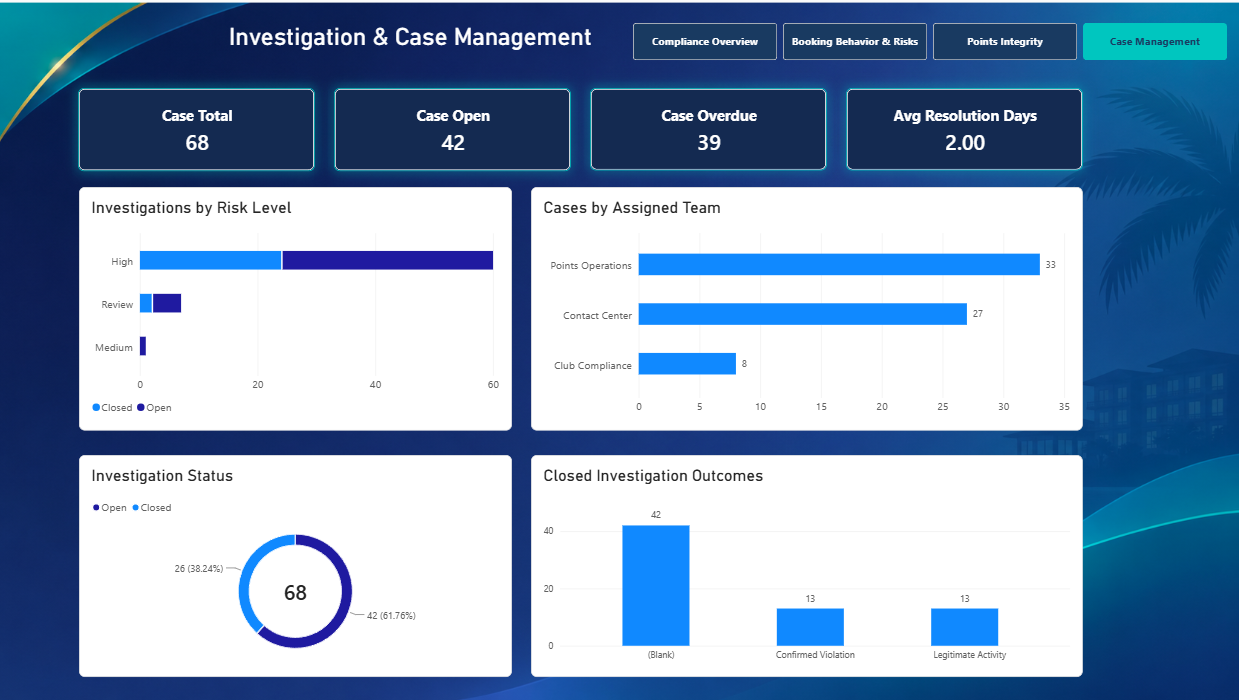

This screenshot's page, from the dashboard's own definition file:
{"tool":"powerbi","page":{"name":"Case Management","canvas":[1920,1080],"ordinal":3},"visuals":[{"type":"cardVisual","fields":{"Data":["_Measures.Case Total"]},"box":[230.6,181.6,319,112.2],"z":0},{"type":"cardVisual","fields":{"Data":["_Measures.Case Open"]},"box":[575.3,182.4,319,112.2],"z":1000},{"type":"cardVisual","fields":{"Data":["_Measures.Case Overdue"]},"box":[920.1,182.4,319,111.5],"z":2000},{"type":"cardVisual","fields":{"Data":["_Measures.Avg Resolution Days"]},"box":[1264.8,182.4,319,111.5],"z":3000},{"type":"textbox","title":"Investigation & Case Management","box":[434,94.6,503.2,38],"z":4000},{"type":"barChart","title":"Investigations by Risk Level","fields":{"Category":["vw_InvestigationCaseManagement.RiskLevel"],"Series":["vw_InvestigationCaseManagement.CaseStatus"],"Y":["_Measures.Case Total"]},"box":[231.3,315.8,582.6,327.6],"z":5000},{"type":"clusteredColumnChart","title":"Closed Investigation Outcomes","fields":{"Category":["vw_InvestigationCaseManagement.Disposition"],"Y":["_Measures.Case Total"]},"box":[840.9,675.5,743,298.9],"z":6000},{"type":"clusteredBarChart","title":"Cases by Assigned Team","fields":{"Category":["vw_InvestigationCaseManagement.AssignedTeam"],"Y":["_Measures.Case Total"]},"box":[840.9,315.8,743,327.6],"z":7000},{"type":"donutChart","title":"Investigation Status","fields":{"Category":["vw_InvestigationCaseManagement.CaseStatus"],"Y":["_Measures.Case Total"]},"box":[231.3,675.5,582.6,298.9],"z":8000},{"type":"pageNavigator","box":[977.7,94.6,800,50],"z":8001}]}

Visuals, with their boxes in screenshot pixels (x1, y1, x2, y2), scaled from the page's 1920x1080 canvas onto the 1239x700 screenshot:
cardVisual - _Measures.Case Total: [left=149, top=118, right=355, bottom=190]
cardVisual - _Measures.Case Open: [left=371, top=118, right=577, bottom=191]
cardVisual - _Measures.Case Overdue: [left=594, top=118, right=800, bottom=190]
cardVisual - _Measures.Avg Resolution Days: [left=816, top=118, right=1022, bottom=190]
"Investigation & Case Management" textbox: [left=280, top=61, right=605, bottom=86]
"Investigations by Risk Level" barChart: [left=149, top=205, right=525, bottom=417]
"Closed Investigation Outcomes" clusteredColumnChart: [left=543, top=438, right=1022, bottom=632]
"Cases by Assigned Team" clusteredBarChart: [left=543, top=205, right=1022, bottom=417]
"Investigation Status" donutChart: [left=149, top=438, right=525, bottom=632]
pageNavigator: [left=631, top=61, right=1147, bottom=94]
